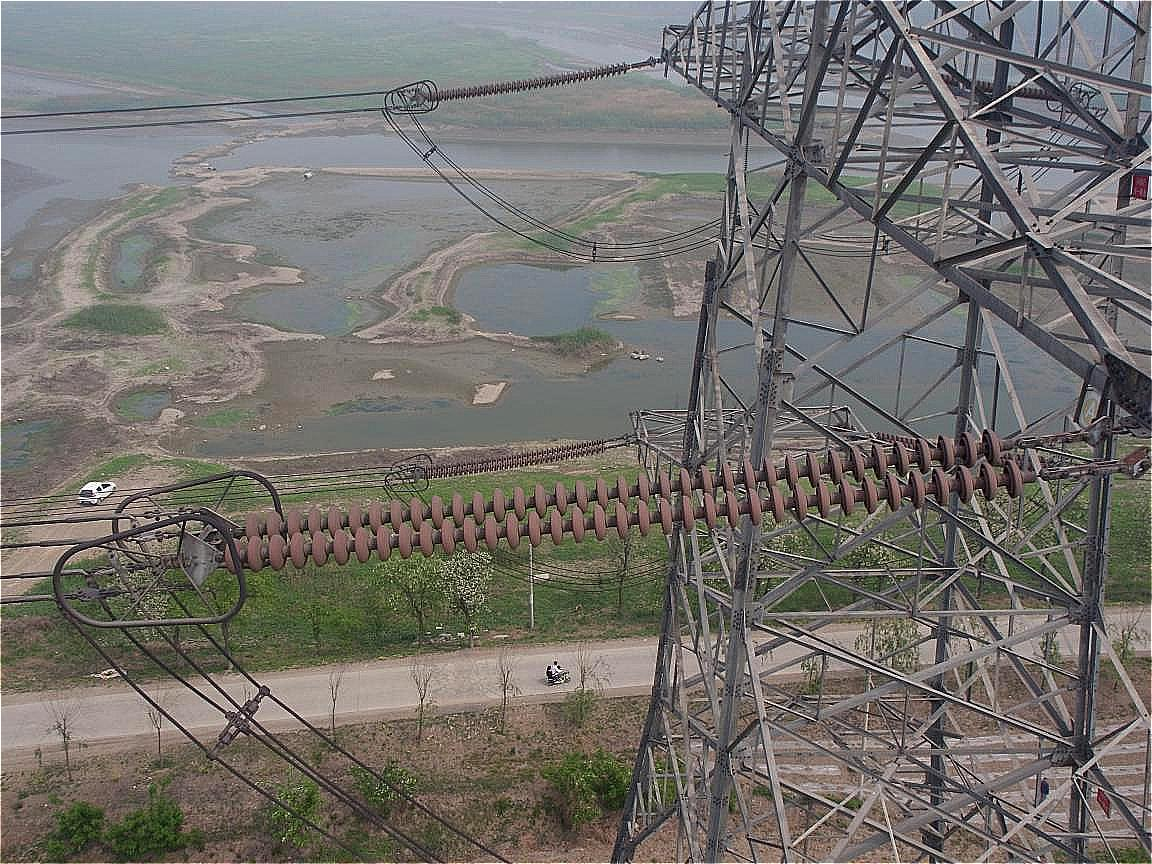insultor1: (203, 421, 1040, 577)
insultor2: (414, 424, 612, 478)
